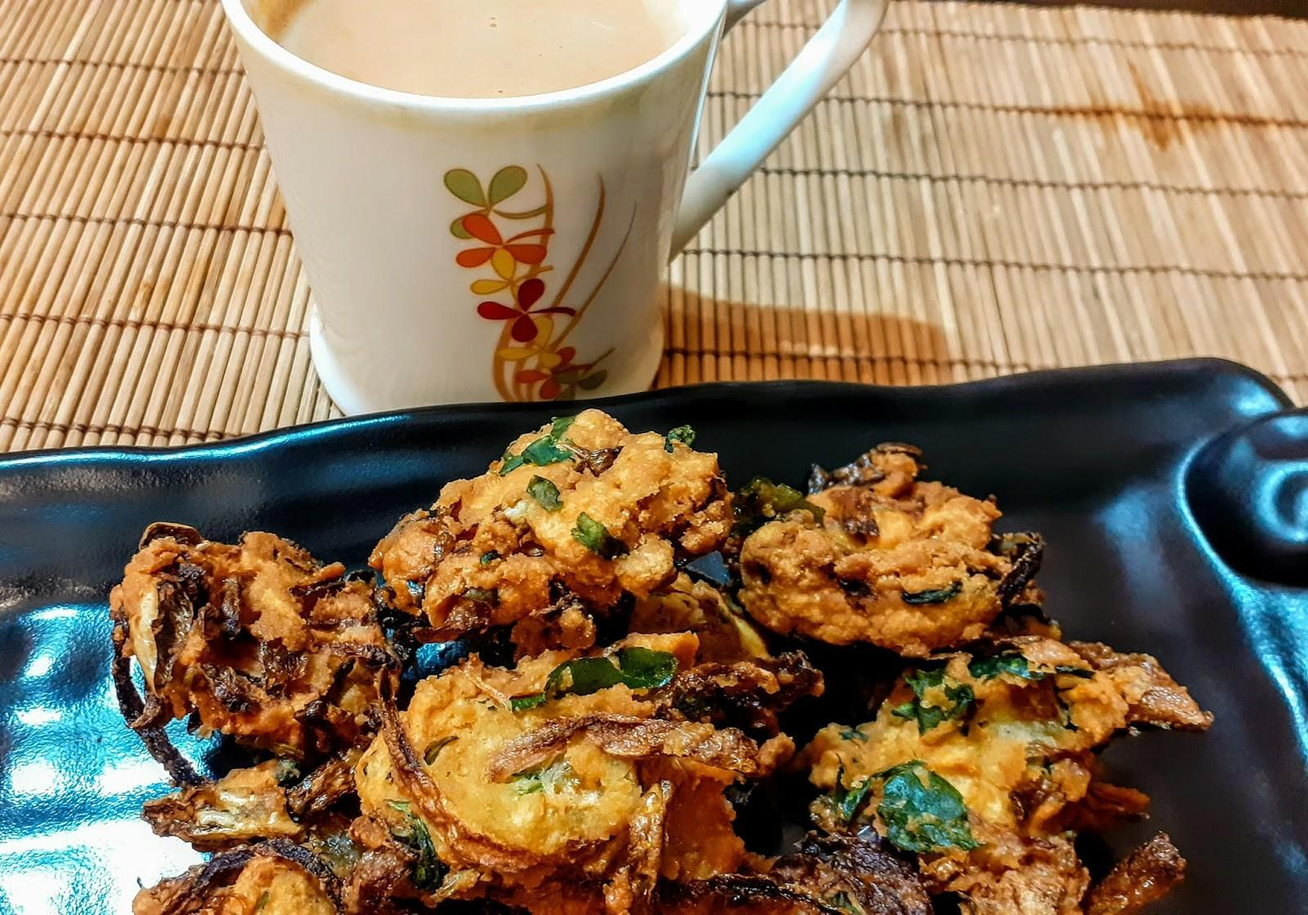Chai: (266, 0, 684, 103)
OnionPakoda: (85, 396, 1217, 915)
